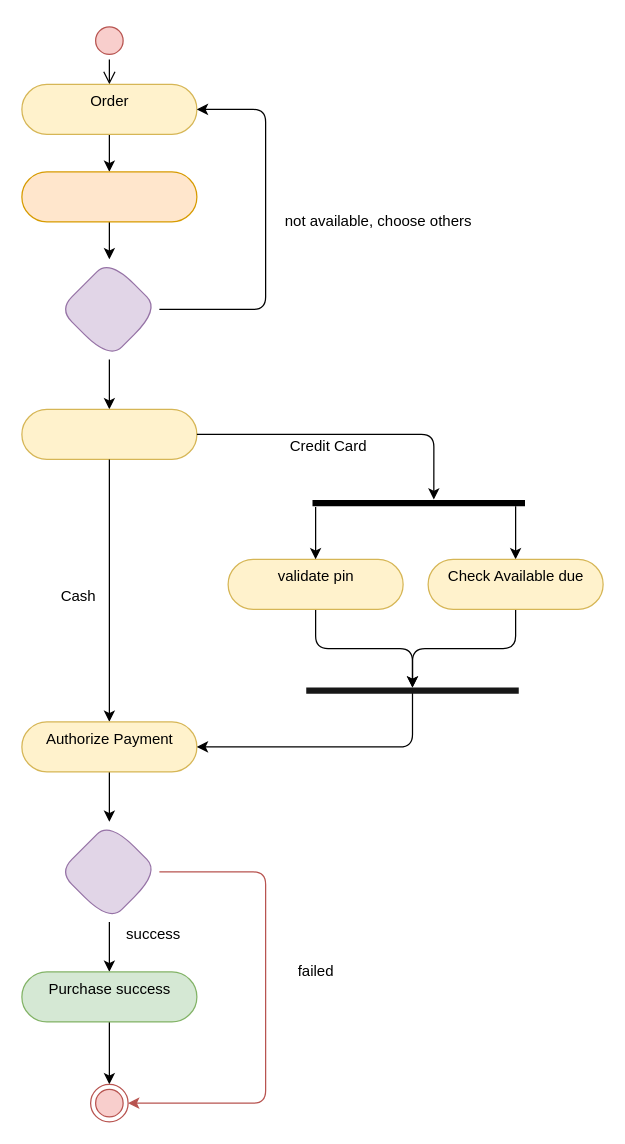
Image size: 625x1144. Some labels were removed from this diagram. The box of each missing label's shape, as (x1, y1, x2, y2) in pixels:
Check Availability: (21, 171, 197, 222)
Select Payment option: (21, 408, 197, 459)
